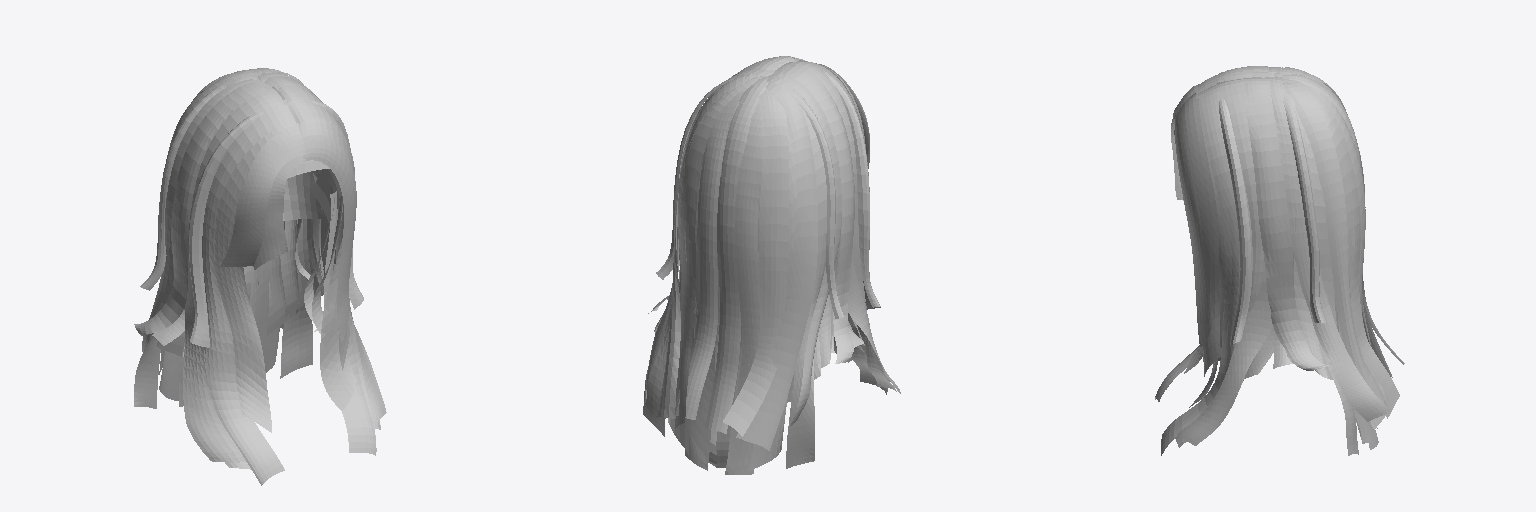
Rendered from hair1.obj.
3 views of the same model, side by side, from view 1: azimuth 30°, elevation 25°; view 2: azimuth 150°, elevation 25°; view 3: azimuth 270°, elevation 25° (orthographic).
Visible parts, largest first — view 1: neck; view 2: neck; view 3: neck.
Boxes of the visible parts, <box> form: neck: <box>134,68,386,485</box>; neck: <box>643,56,900,474</box>; neck: <box>1155,66,1404,455</box>.
Bounding box in the file's own units: 0.0968 × 0.1711 × 0.107.